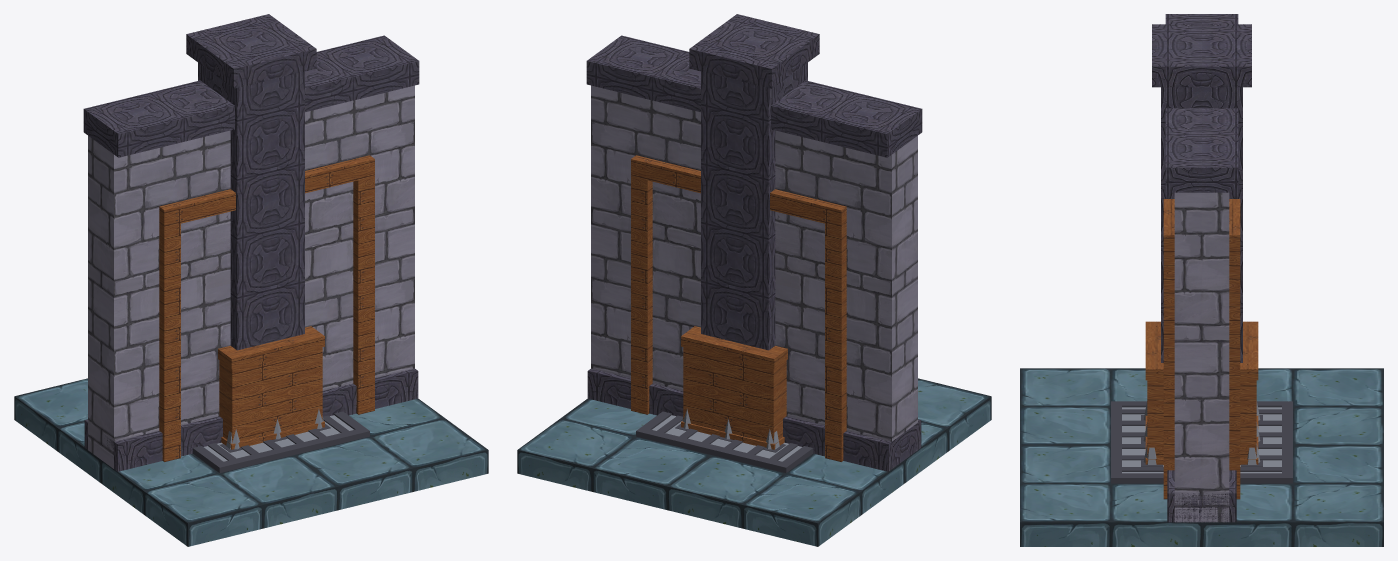
Rendered from dungeon_kit.fbx.
3 views of the same model, side by side, from view 1: azimuth 30°, elevation 25°; view 2: azimuth 150°, elevation 25°; view 3: azimuth 270°, elevation 25° (orthographic). The views are drawn at different scales.
Parts seen in each view (by area): view 1: wall, floor_tile, pillar, wall_door, crate, trap_grate, spike_plate; view 2: wall, floor_tile, pillar, wall_door, crate, trap_grate, spike_plate; view 3: floor_tile, wall, pillar, wall_door, trap_grate, crate, spike_plate, spikes.
Boxes of the visible parts, bbox=[...] form: wall: bbox=[83, 35, 419, 471]; floor_tile: bbox=[14, 378, 488, 546]; pillar: bbox=[186, 14, 316, 350]; wall_door: bbox=[85, 100, 417, 471]; crate: bbox=[218, 326, 324, 449]; trap_grate: bbox=[192, 411, 369, 472]; spike_plate: bbox=[204, 415, 353, 461]; wall: bbox=[586, 35, 922, 471]; floor_tile: bbox=[517, 378, 991, 546]; pillar: bbox=[689, 14, 819, 350]; wall_door: bbox=[587, 86, 920, 470]; crate: bbox=[681, 326, 787, 449]; trap_grate: bbox=[636, 411, 813, 472]; spike_plate: bbox=[652, 415, 801, 461]; floor_tile: bbox=[1020, 368, 1383, 546]; wall: bbox=[1165, 14, 1238, 522]; pillar: bbox=[1152, 24, 1251, 362]; wall_door: bbox=[1163, 199, 1240, 499]; trap_grate: bbox=[1111, 401, 1292, 483]; crate: bbox=[1145, 321, 1258, 464]; spike_plate: bbox=[1122, 407, 1281, 473]; spikes: bbox=[1143, 401, 1260, 464].
Size of the model in its own units: 4 by 5.15 by 4.
Materials: 12 (6 with a texture image).
